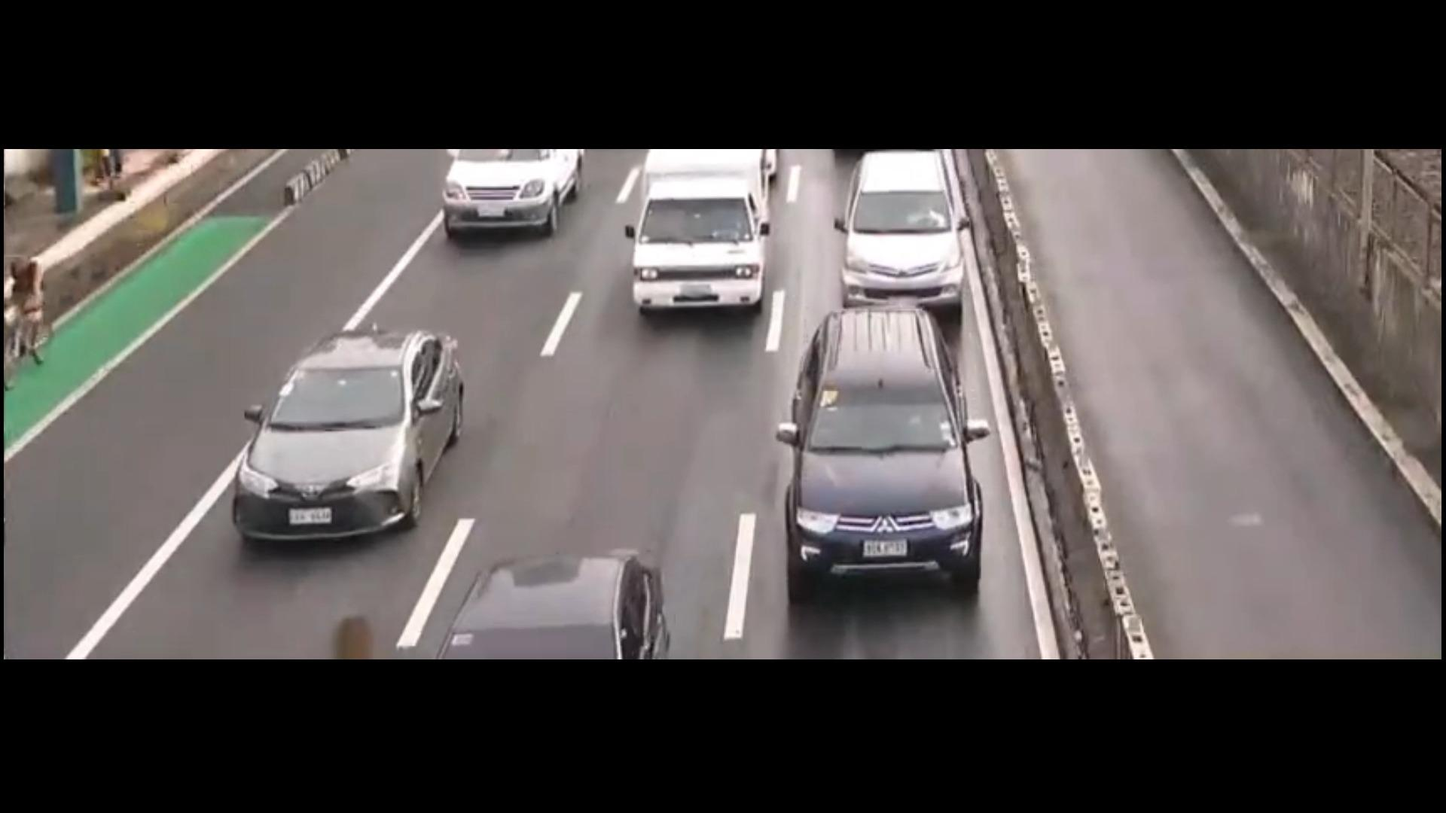Bicycle: (1, 241, 79, 393)
Multicab: (591, 140, 799, 331)
SUV: (725, 283, 996, 625), (846, 149, 976, 318)
Sedan: (195, 307, 494, 557)
